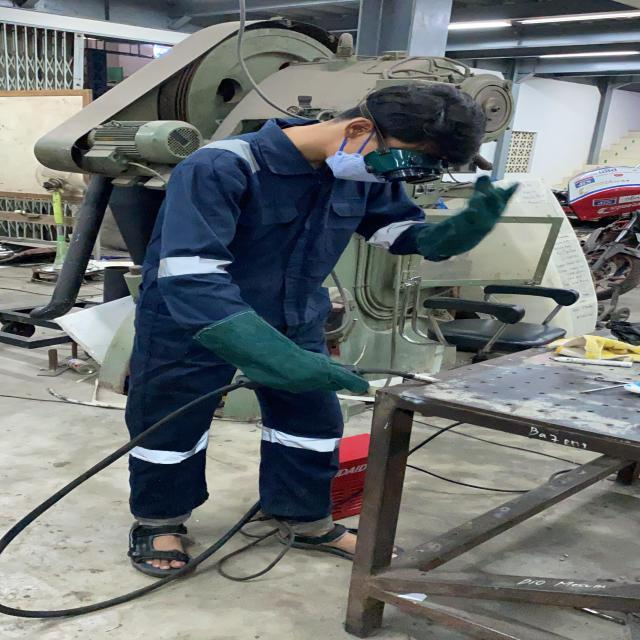glasses: (361, 141, 450, 188)
